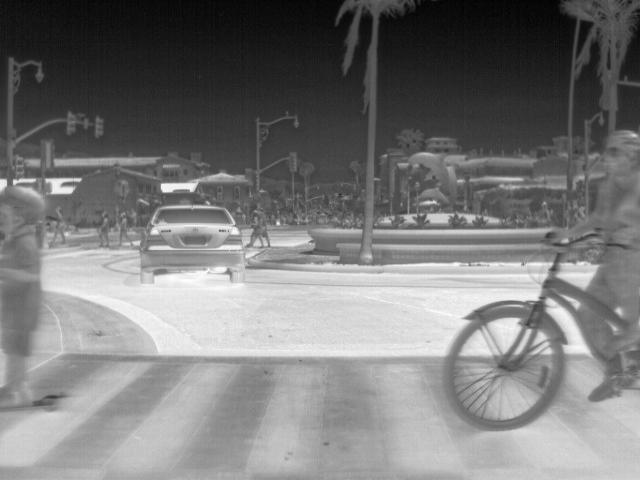car: (137, 204, 246, 284)
person: (580, 126, 640, 406), (1, 183, 55, 400), (243, 210, 272, 249), (114, 214, 132, 248), (52, 206, 67, 246), (98, 214, 113, 248), (539, 198, 554, 223)
